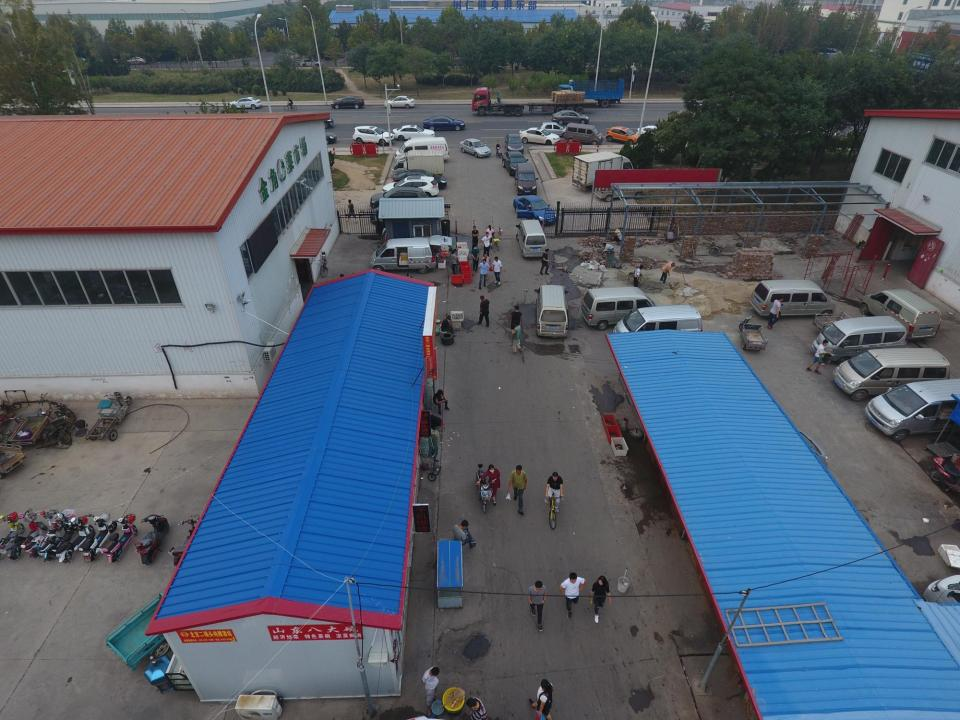car: (290, 141, 337, 169), (394, 166, 449, 189), (372, 183, 430, 204), (515, 196, 556, 225), (386, 175, 440, 197), (354, 123, 394, 146), (392, 122, 436, 142), (523, 128, 560, 149), (296, 111, 335, 128), (458, 138, 490, 158), (423, 116, 465, 131), (552, 108, 589, 125), (302, 127, 336, 145), (609, 126, 639, 146), (638, 122, 666, 142), (228, 94, 261, 110), (540, 119, 570, 136), (504, 152, 529, 172), (331, 95, 364, 110), (384, 94, 414, 108), (505, 130, 524, 152), (294, 57, 323, 70), (118, 54, 146, 66)
truck: (472, 87, 596, 114), (558, 78, 622, 107)
van: (835, 348, 951, 402), (866, 377, 960, 439), (811, 315, 911, 361), (865, 289, 940, 340), (616, 305, 706, 344), (757, 279, 838, 318), (583, 287, 658, 327), (370, 238, 436, 273), (576, 152, 633, 187), (537, 284, 566, 338), (389, 147, 443, 174), (594, 173, 645, 200), (394, 138, 449, 160), (517, 220, 545, 259), (513, 160, 539, 195), (565, 122, 600, 144)
